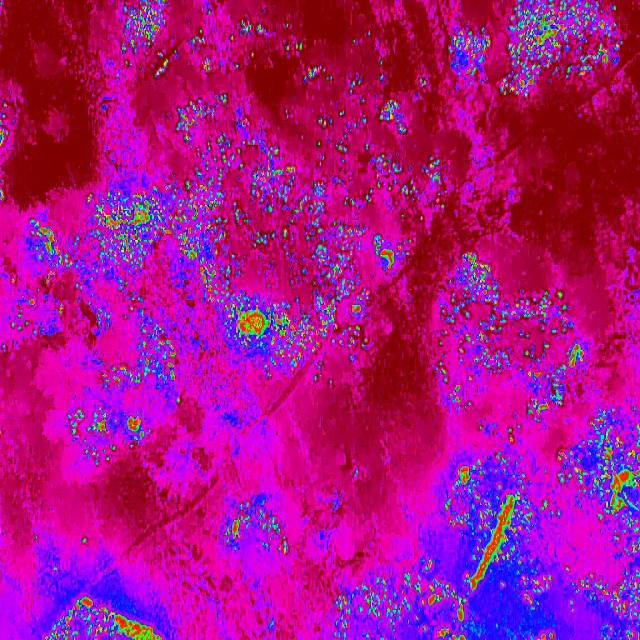fire: (79, 176, 402, 363), (438, 256, 584, 412), (438, 454, 540, 598), (65, 338, 190, 452), (498, 0, 624, 105), (327, 561, 470, 640), (559, 408, 640, 528), (174, 93, 292, 173), (39, 590, 168, 640), (20, 208, 77, 320), (102, 0, 189, 70), (568, 566, 640, 640), (217, 492, 293, 554), (444, 24, 491, 81), (374, 96, 412, 140), (298, 59, 334, 93), (230, 17, 271, 39)
